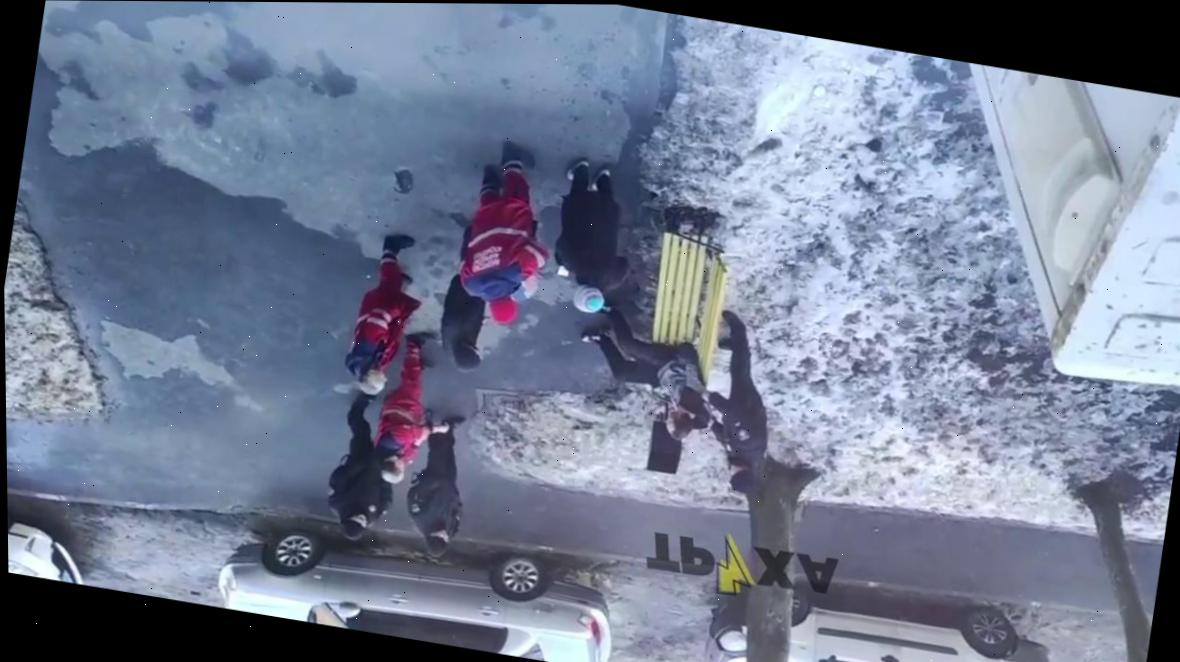car: (209, 500, 628, 662), (698, 575, 1075, 662)
person: (444, 134, 570, 331), (565, 300, 727, 445), (680, 307, 790, 498), (535, 156, 649, 321), (335, 226, 434, 402), (375, 329, 466, 492), (317, 389, 411, 544), (398, 410, 479, 559), (431, 246, 502, 377)
